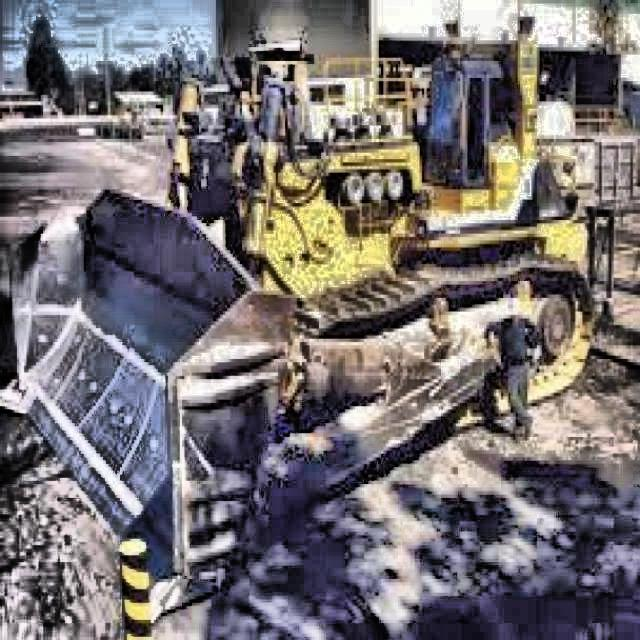bull_dozer/loader/grader: (0, 34, 599, 624)
person: (484, 296, 542, 444)
